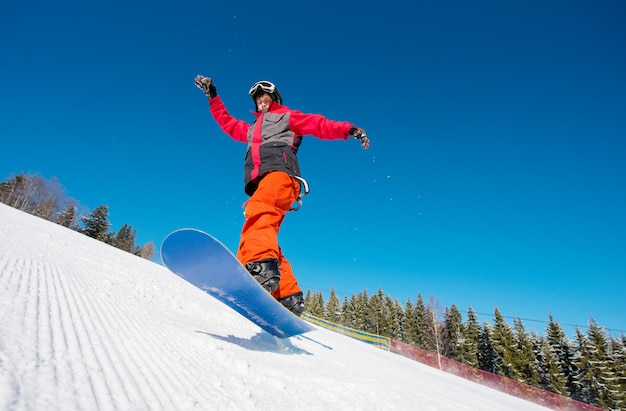snowboarder: (177, 59, 373, 339)
